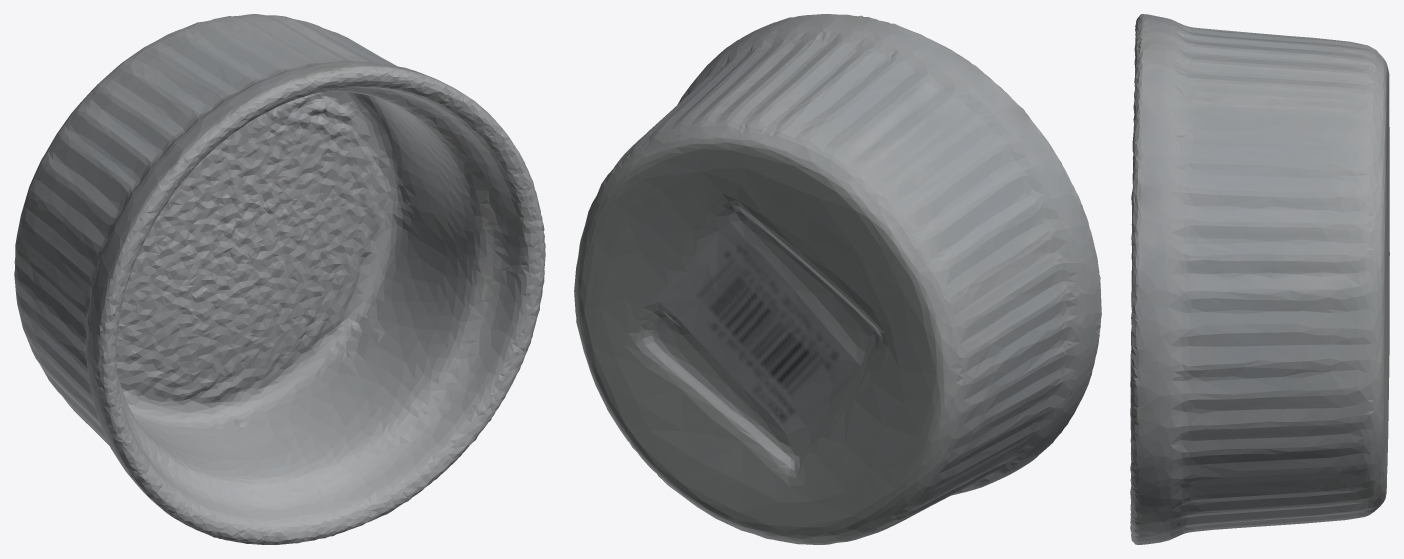
The model's file is BIA_Porcelain_Ramekin_With_Glazed_Rim_35_45_oz_cup.glb.
3 renders of one model, left to right at view 1: azimuth 30°, elevation 25°; view 2: azimuth 150°, elevation 25°; view 3: azimuth 270°, elevation 25°, orthographic. The views are drawn at different scales.
Parts seen in each view (by area): view 1: v0; view 2: v0; view 3: v0.
Part boxes in pixels (x1,y1,x2,y2): v0: (14,14,545,544); v0: (574,14,1101,544); v0: (1130,14,1389,544).
Size of the model in its own units: 0.0887 by 0.0887 by 0.0433.
Materials: 1 (1 with a texture image).
